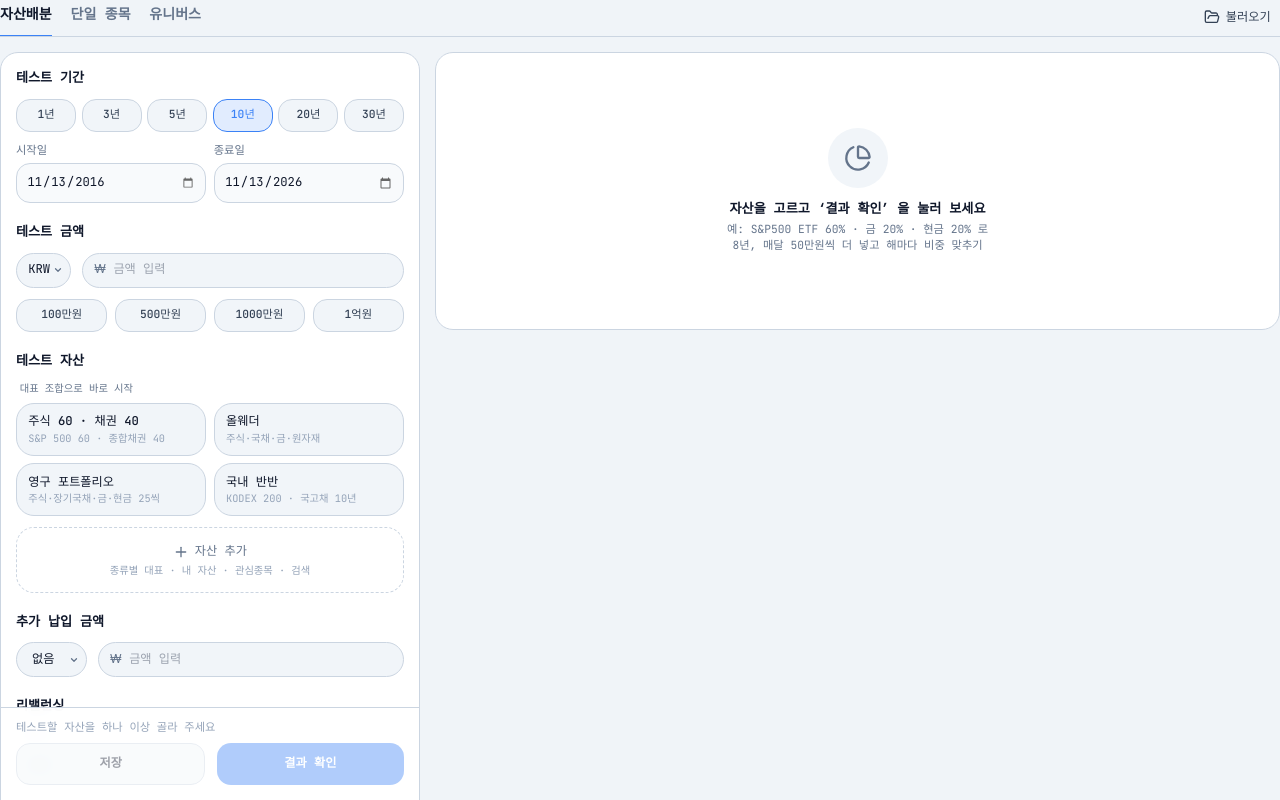
불러오기 창에 둘 다 모인다 › 저장한 자산배분 실험이 보인다
Step 1. Click the button "불러오기" → click(1237, 17), box [1195,3,1279,32]
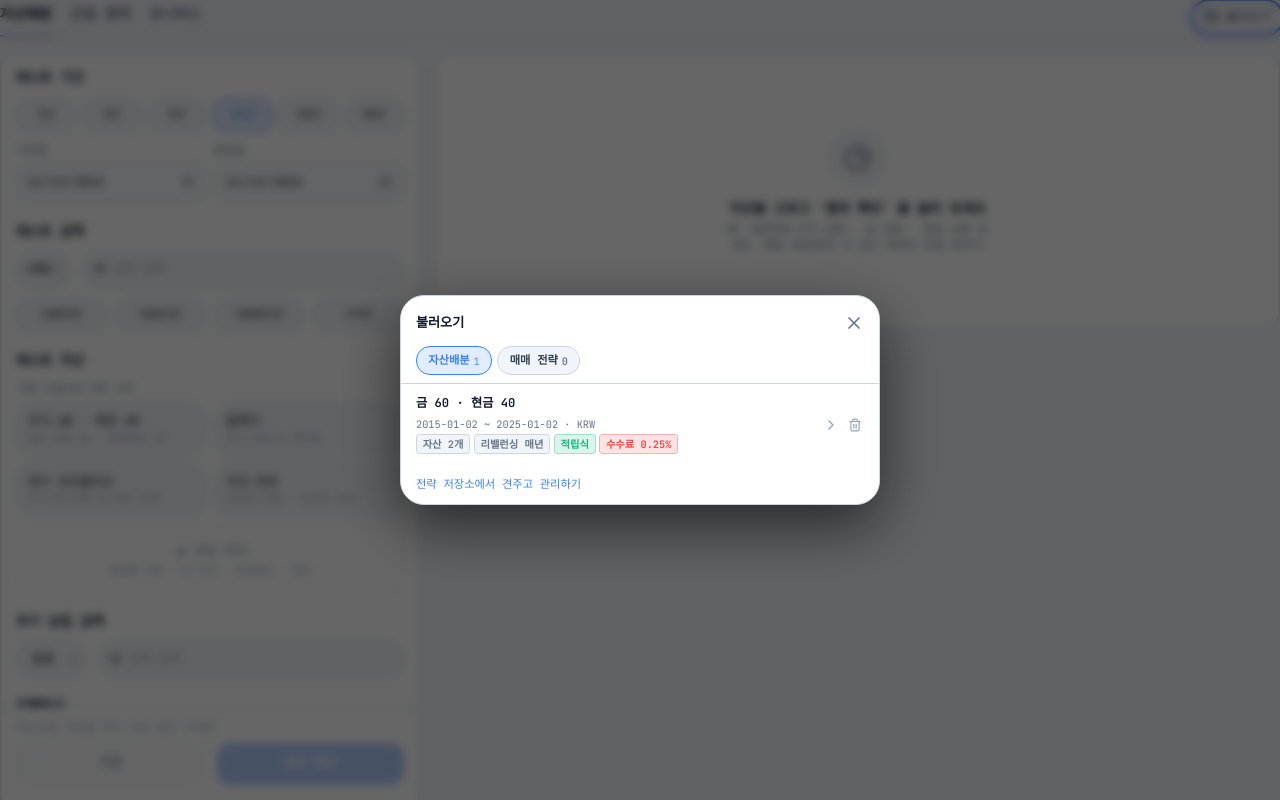
Expected: the text "금 60 · 현금 40" is shown, [416,395,515,411]
